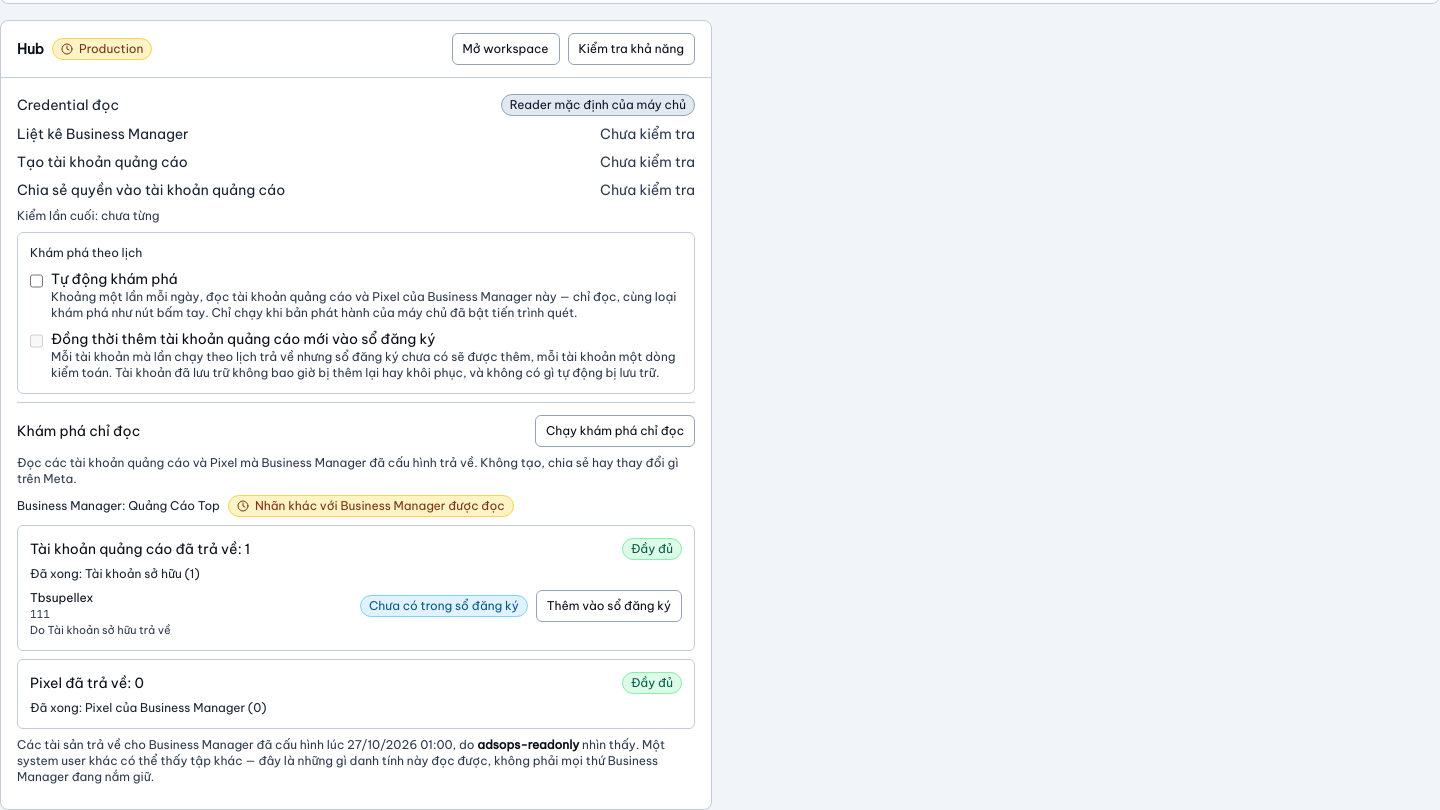
it: Meta connections page: writes › imports a discovered account only after an AlertDialog, then reads the result back
The width and height of the screenshot is (1440, 810).
(page scrolled)
Click the button "Thêm vào sổ đăng ký" at point(609, 606), box [536,590,682,622]
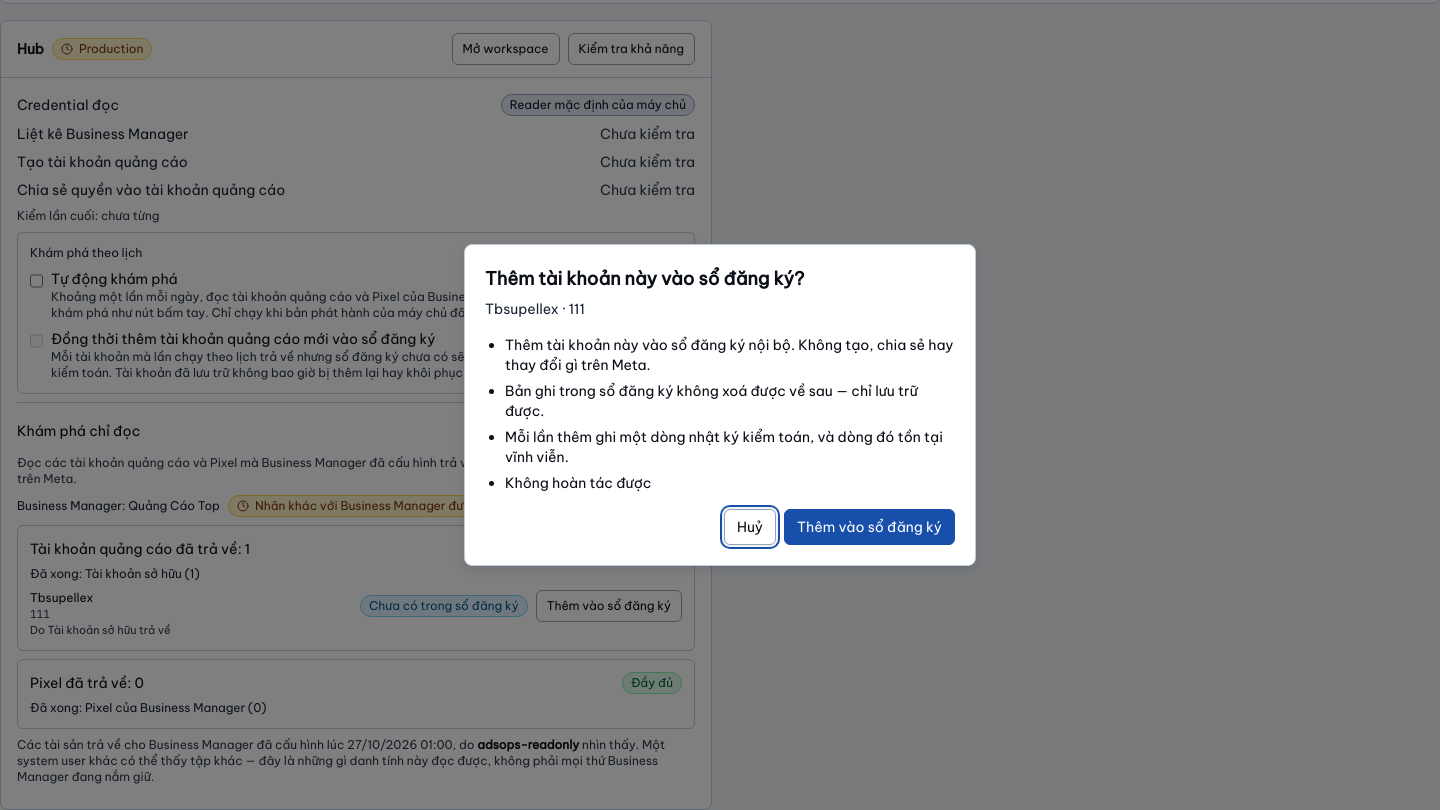
Result: the dialog shows "Bản ghi trong sổ đăng ký không xoá được về sau" at [505,382,918,420]
Result: the dialog shows "Không hoàn tác được" at [505,474,651,492]
Click the button "Thêm vào sổ đăng ký" at point(870, 527), box [784,509,955,545]
(page scrolled)
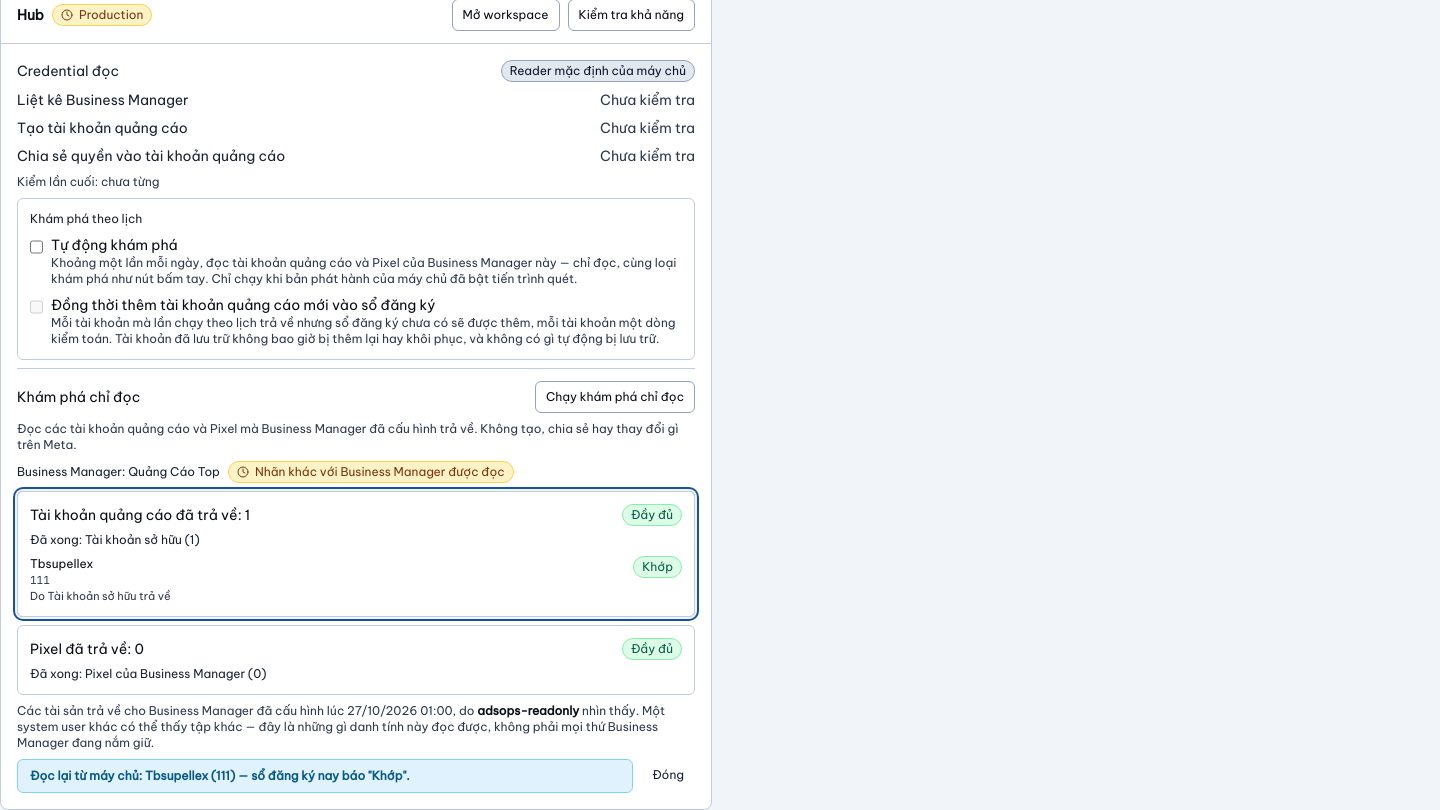
Result: the dialog is gone
Result: the text "Đọc lại từ máy chủ: Tbsupellex (111) — sổ đăng ký nay báo \"Khớp\"." is shown at [17,759,633,793]
